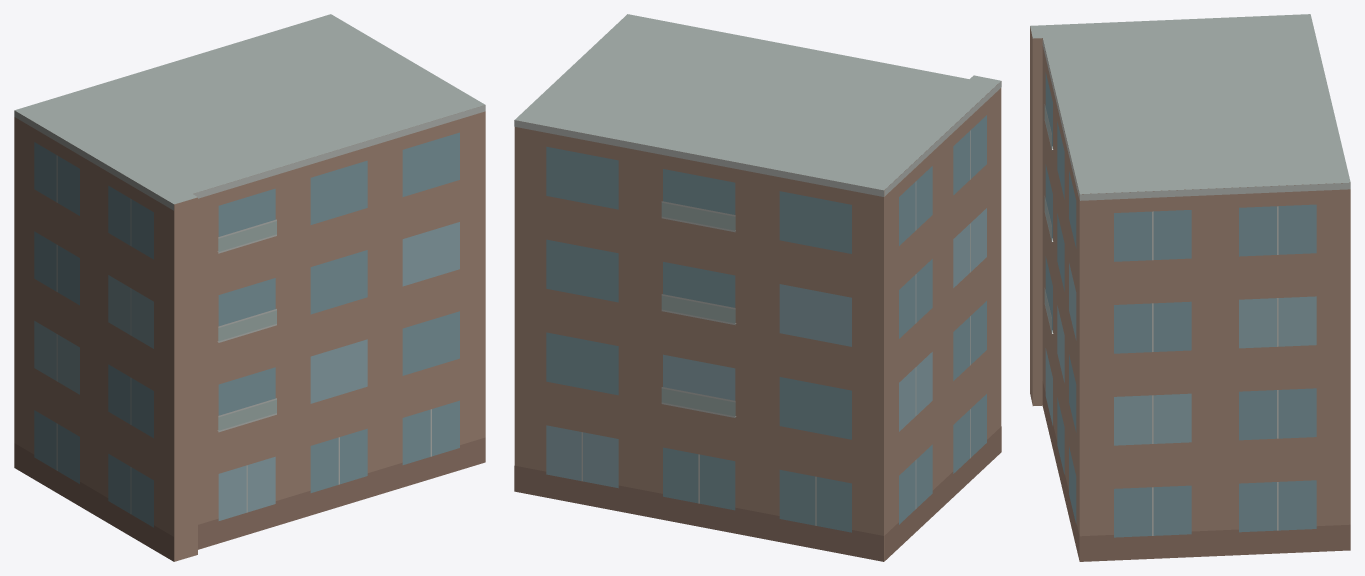
The model's file is survey-upis-32822486.glb.
3 views of the same model, side by side, from view 1: azimuth 30°, elevation 25°; view 2: azimuth 150°, elevation 25°; view 3: azimuth 270°, elevation 25° (orthographic). The views are drawn at different scales.
Parts seen in each view (by area): view 1: survey-upis-32822486.tmp; view 2: survey-upis-32822486.tmp; view 3: survey-upis-32822486.tmp.
Part boxes in pixels (x1,y1,x2,y2): survey-upis-32822486.tmp: [14, 14, 485, 561]; survey-upis-32822486.tmp: [514, 14, 1001, 561]; survey-upis-32822486.tmp: [1030, 14, 1350, 561].
Bounding box in the file's own units: 14.2 × 13.5 × 10.68.
